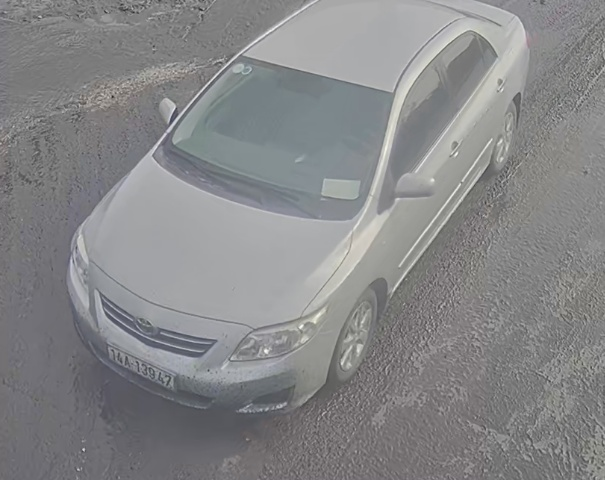vehicle plate: (102, 340, 177, 393)
